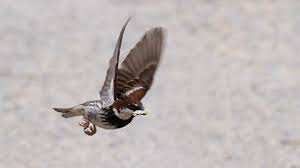hsparrow: (44, 16, 170, 147)
